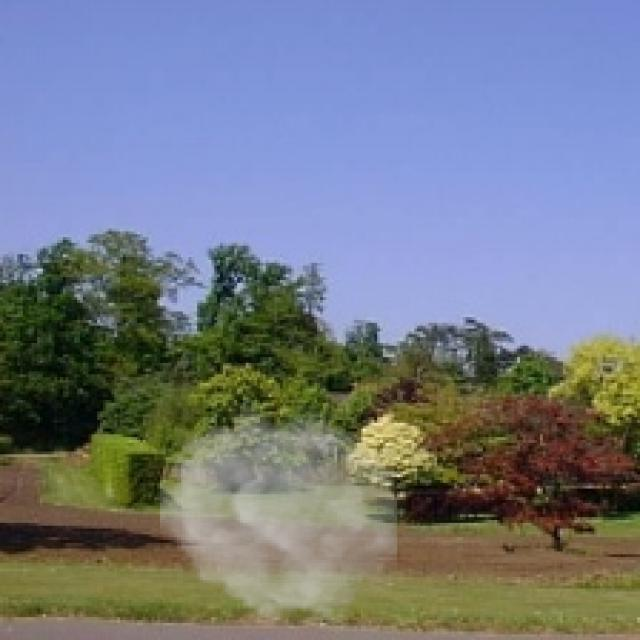Smoke: (160, 399, 397, 632)
